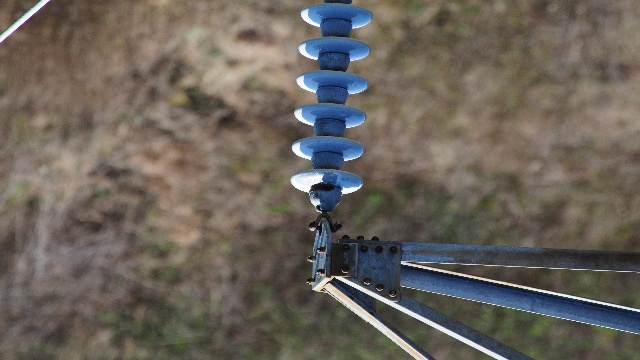insulator_unspecified: (290, 4, 373, 194)
pollution_flashover_local: (315, 170, 343, 186)
